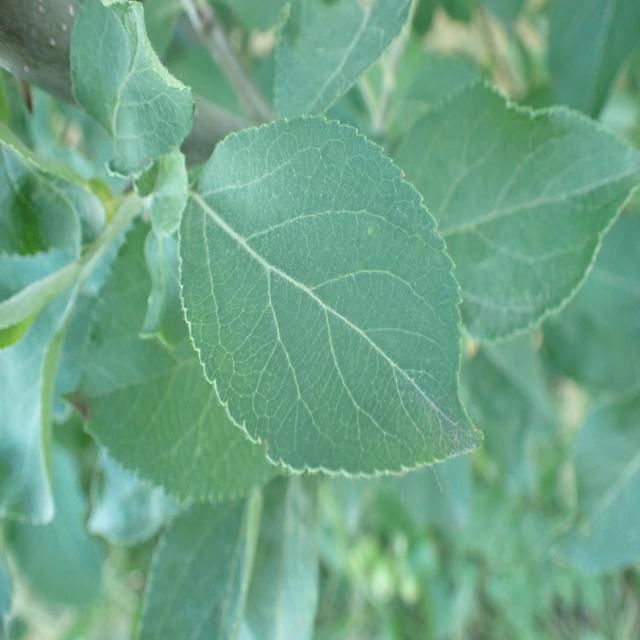healthy: (177, 113, 485, 480), (391, 79, 640, 342), (76, 215, 284, 503), (70, 0, 196, 181), (134, 489, 260, 639), (272, 0, 414, 120)
